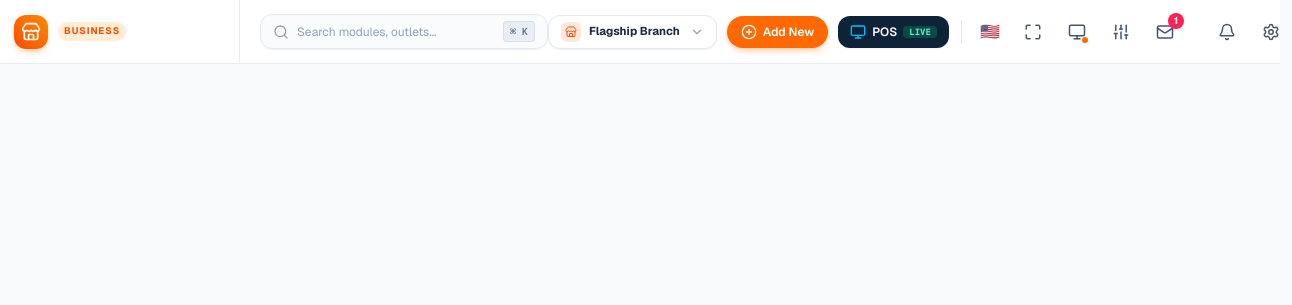
BusinessNavbar Component › toggles outlet menu and displays branch outlets
What coordinates should you click on to do the following:
click the text "Flagship Branch"
I would click on:
 (634, 32)
Its box is [589,24,680,39].
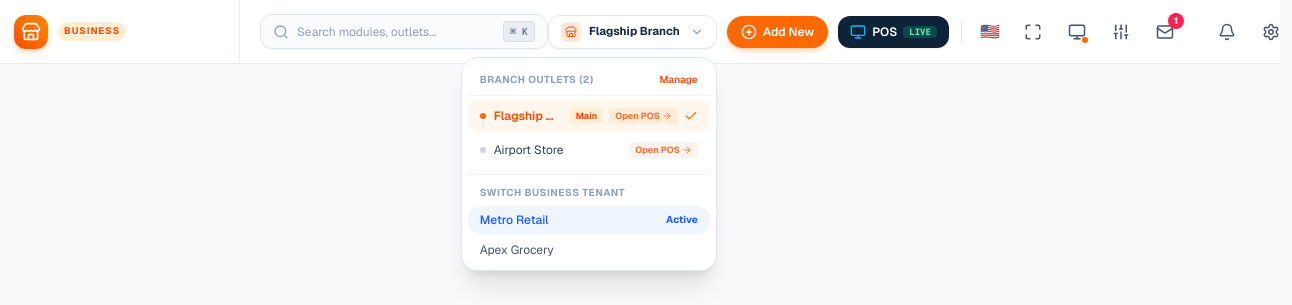
Now the text "Branch Outlets (2)" is shown, box [480,72,594,86]
Now the text "Airport Store" is shown, box [494,142,564,158]
Now the text "Main" is shown, box [570,108,603,124]
